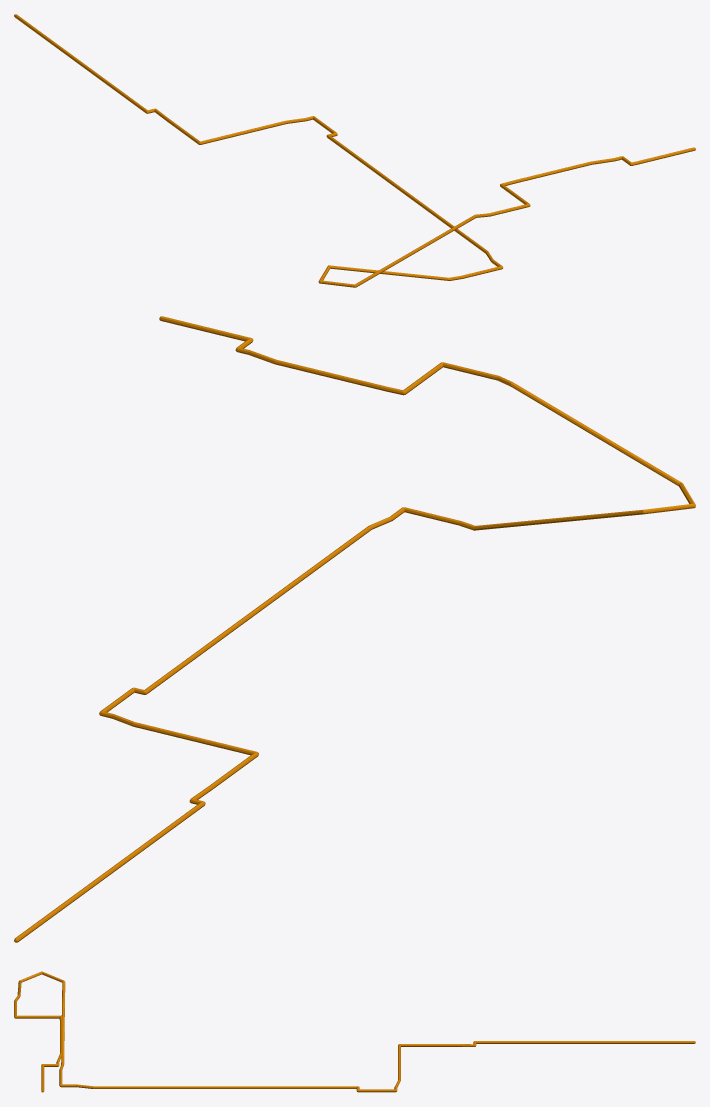
3 views of the same model, one above another, from view 1: azimuth 30°, elevation 25°; view 2: azimuth 150°, elevation 25°; view 3: azimuth 270°, elevation 25° (orthographic). The views are drawn at different scales.
Size of the model in its own units: 2402 by 520 by 4501.
